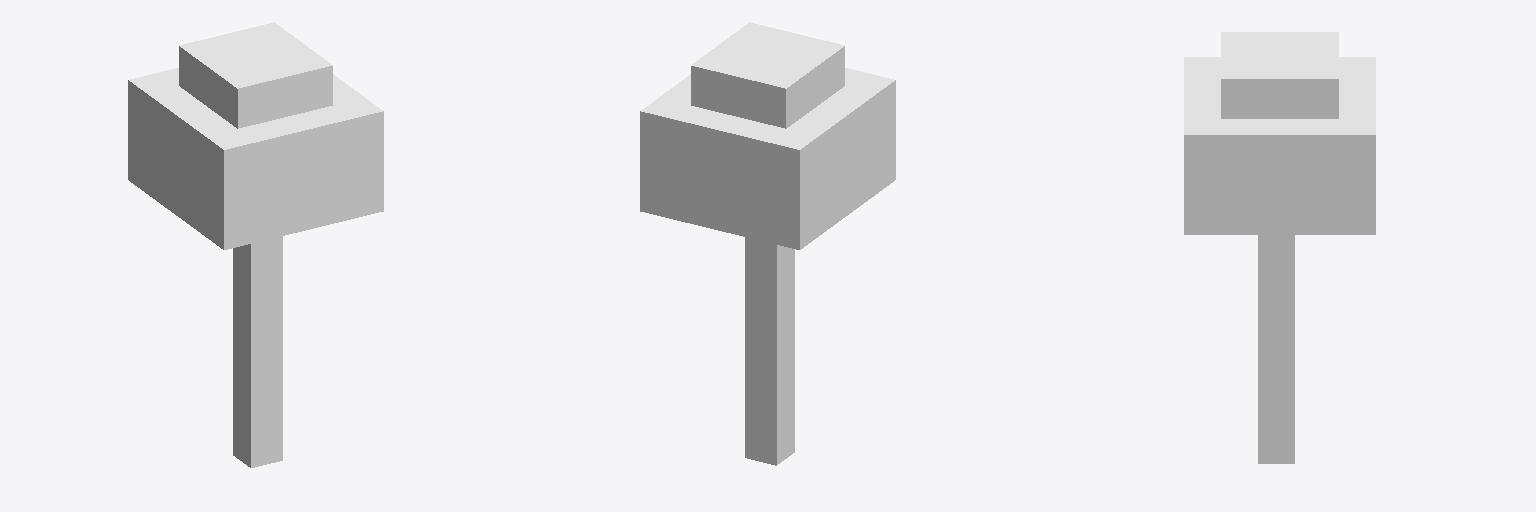
The model's file is Boom1.obj.
The picture shows the model from 3 angles: view 1: azimuth 30°, elevation 25°; view 2: azimuth 150°, elevation 25°; view 3: azimuth 270°, elevation 25°; orthographic projection.
Visible parts, largest first — view 1: object 1; view 2: object 1; view 3: object 1.
Part boxes in pixels (x1,y1,x2,y2): object 1: (128,22,383,467); object 1: (640,22,895,465); object 1: (1184,32,1375,463).
Bounding box in the file's own units: 2.5 × 6 × 2.6.